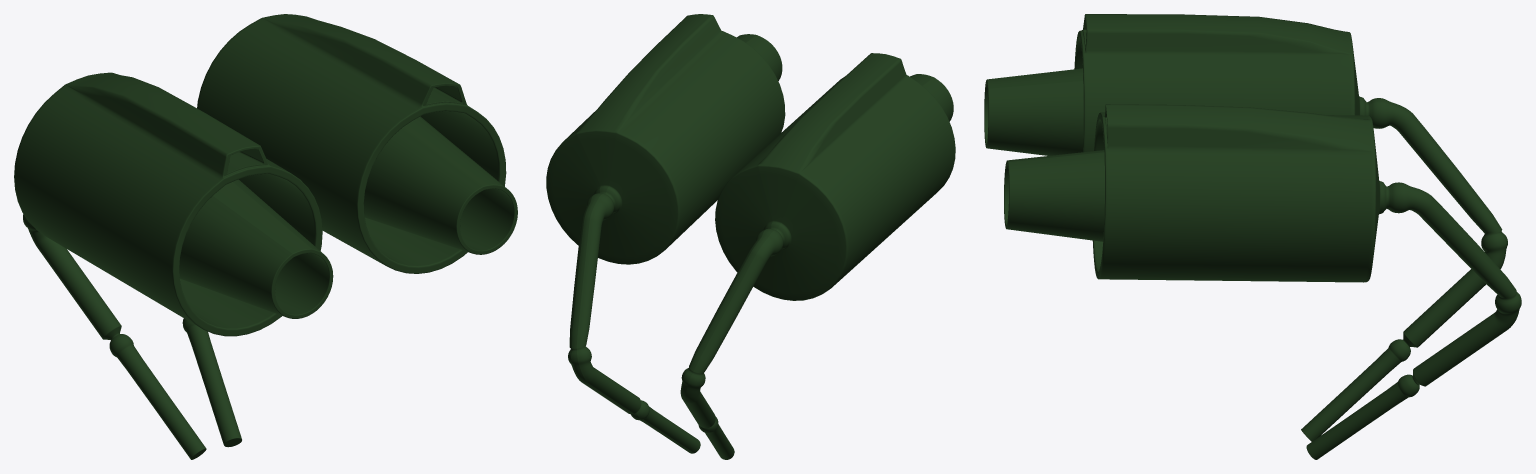
Rendered from laser_canon_separate.fbx.
The picture shows the model from 3 angles, left to right: view 1: azimuth 30°, elevation 25°; view 2: azimuth 150°, elevation 25°; view 3: azimuth 270°, elevation 25°; orthographic projection. The views are drawn at different scales.
Parts seen in each view (by area): view 1: pasted__laser_extraShape; view 2: pasted__laser_extraShape; view 3: pasted__laser_extraShape.
Part boxes in pixels (bbox=[...]): pasted__laser_extraShape: bbox=[14, 14, 517, 459]; pasted__laser_extraShape: bbox=[546, 14, 955, 459]; pasted__laser_extraShape: bbox=[984, 14, 1521, 459].
Bounding box in the file's own units: 7.77 × 8.65 × 10.68.
